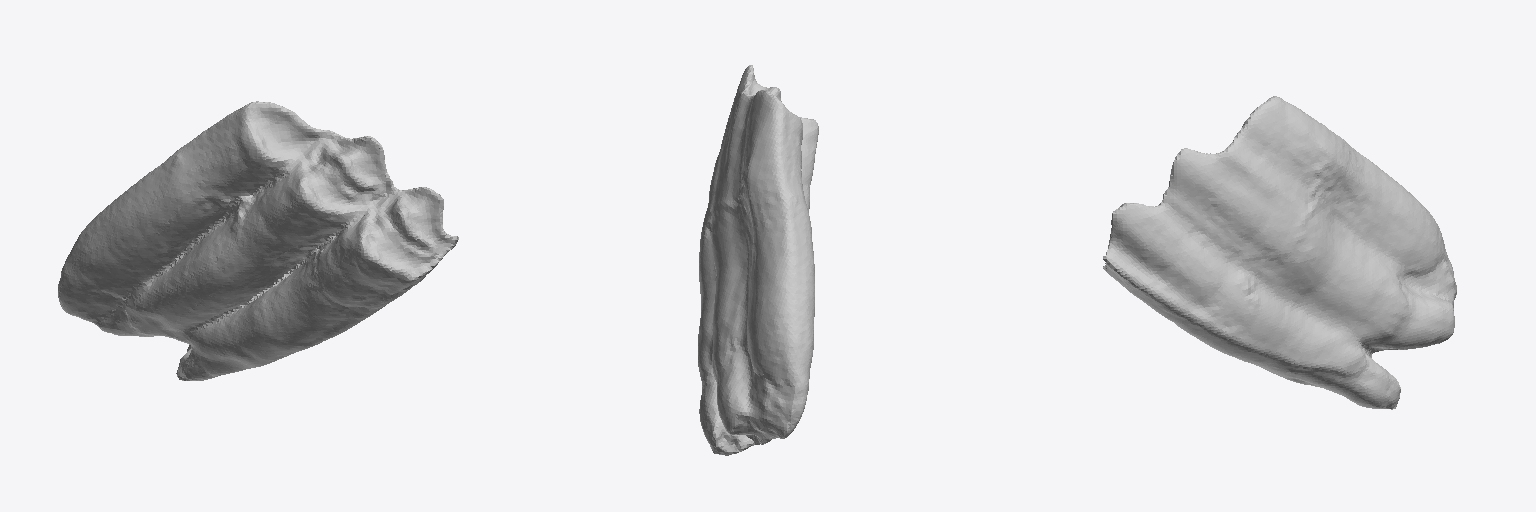
File: MB Ovis 8 M3.obj
The picture shows the model from 3 angles: view 1: azimuth 30°, elevation 25°; view 2: azimuth 150°, elevation 25°; view 3: azimuth 270°, elevation 25°; orthographic projection.
Size of the model in its own units: 24.01 by 31.02 by 31.61.